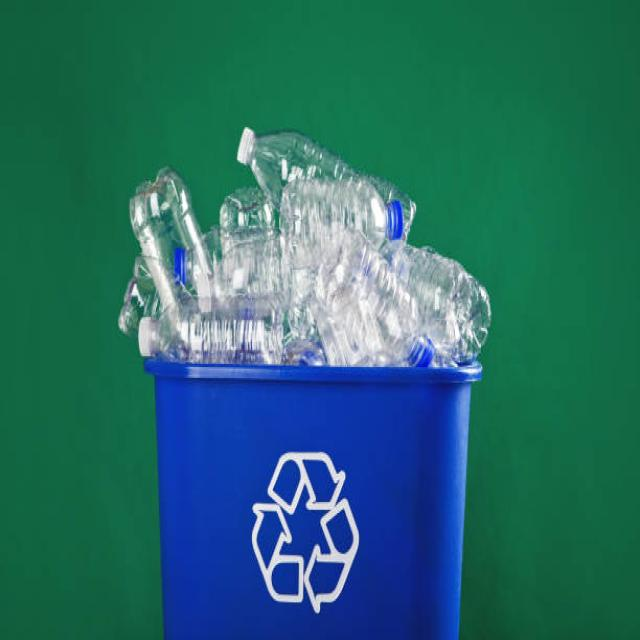plastic: (116, 122, 495, 348)
